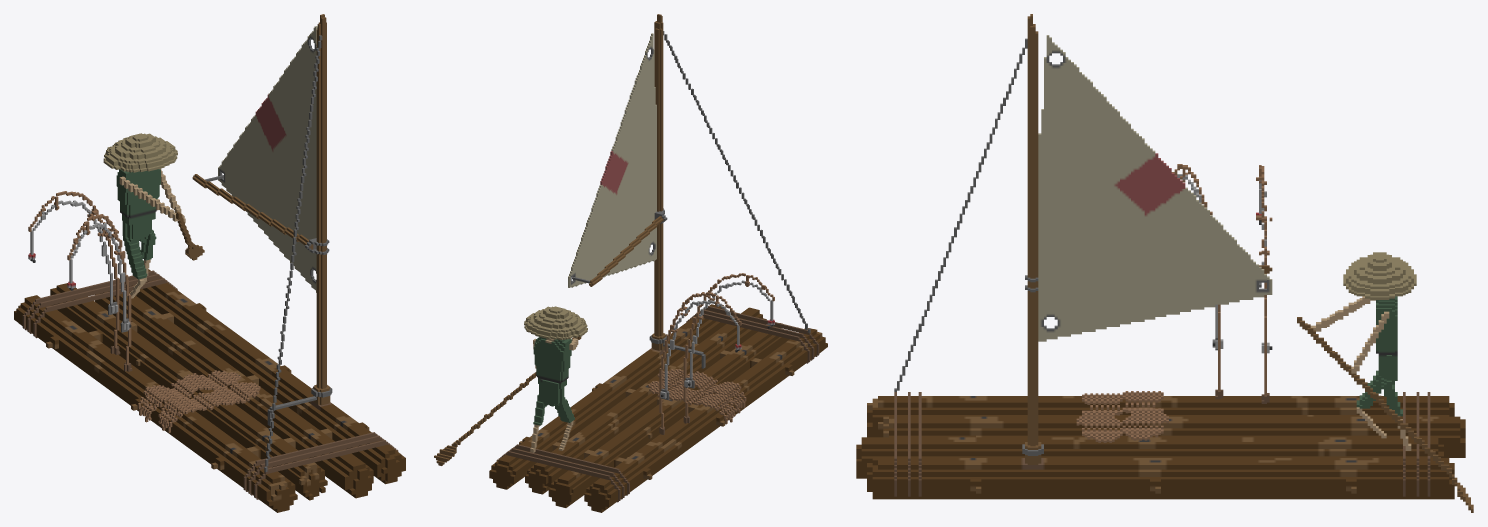
The model's file is boat.dae.
3 renders of one model, left to right at view 1: azimuth 30°, elevation 25°; view 2: azimuth 150°, elevation 25°; view 3: azimuth 270°, elevation 25°, orthographic. The views are drawn at different scales.
Visible parts, largest first — view 1: boat; view 2: boat; view 3: boat.
Boxes of the visible parts, x1=… form: boat: x1=14, y1=14, x2=405, y2=512; boat: x1=434, y1=14, x2=827, y2=512; boat: x1=856, y1=14, x2=1473, y2=512.
Size of the model in its own units: 130 by 195 by 227.
1 material, 1 textured.
